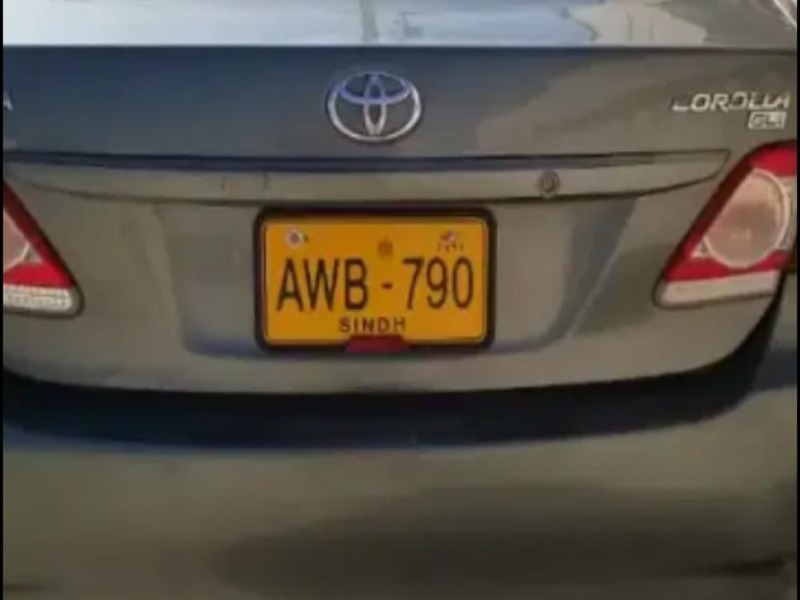License Plate: (258, 212, 490, 347)
